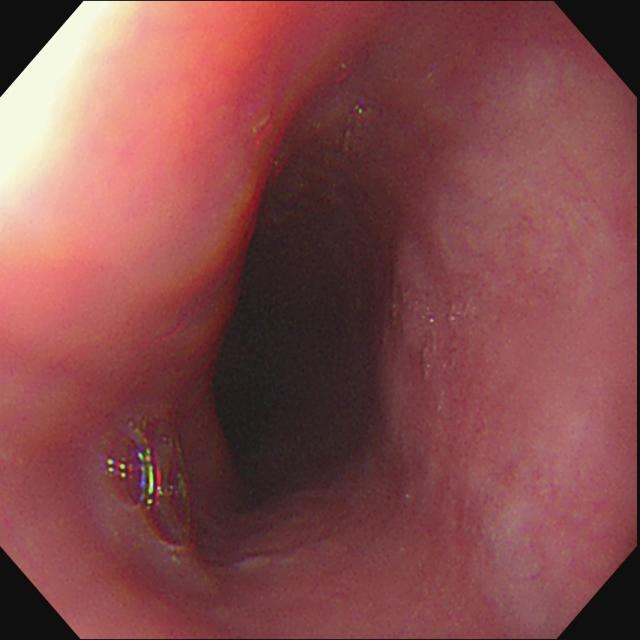E: (215, 237, 338, 483)
T: (104, 423, 195, 552)
